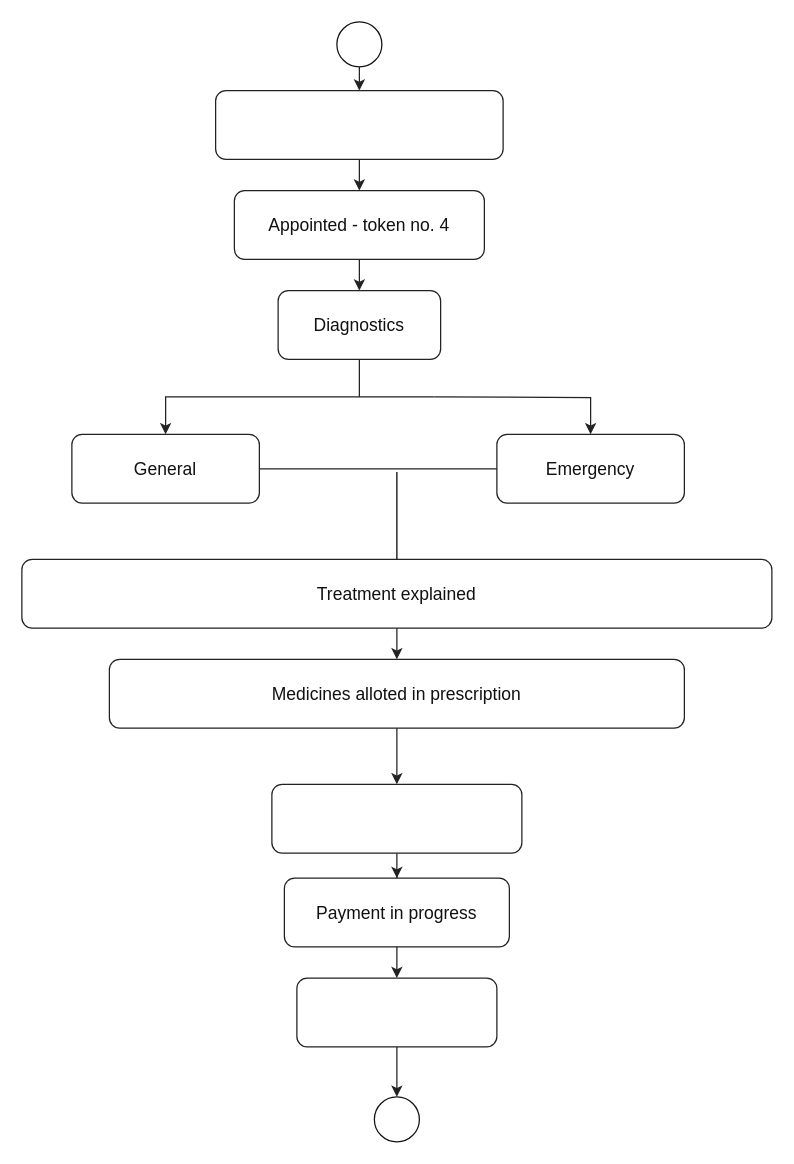
This 794x1164 diagram has some shape labels left out. The shapes that lost their labels are listed below. From the top down, each one's centre as x and y in pixels, then its label:
the point at 358,124: Register for Appointment
the point at 396,818: Bill
the point at 396,1012: Payment Successful
